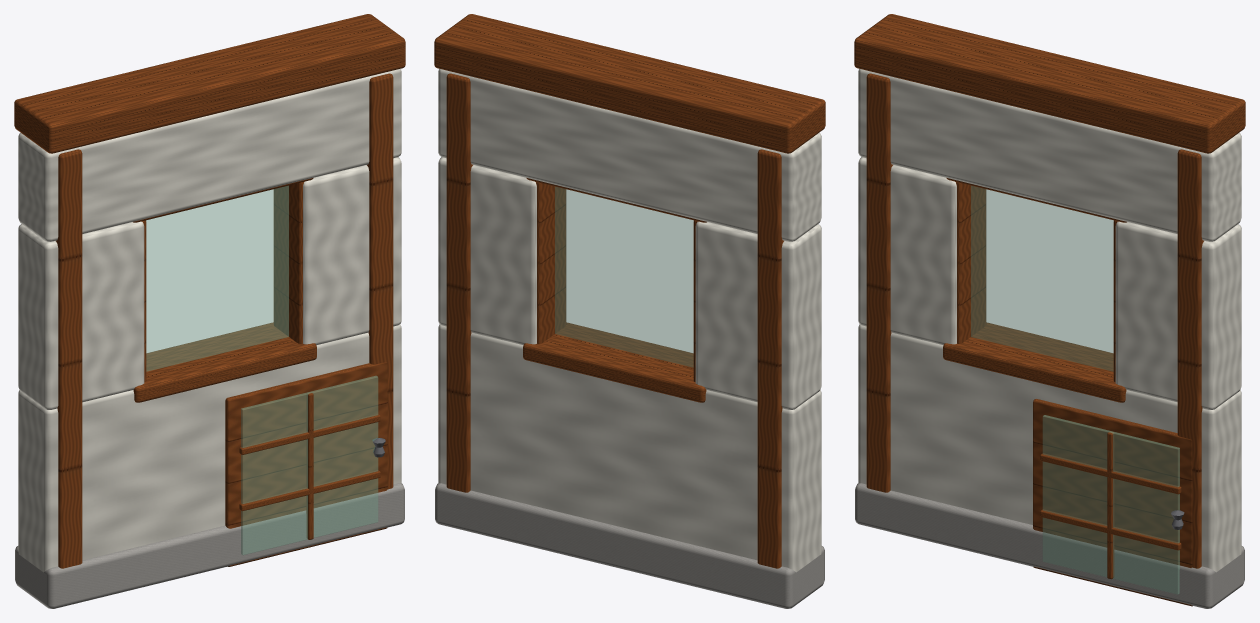
The model's file is witch-cottage-and-apothecary-cob-wall-window-section-d55b2973__32431.glb.
The picture shows the model from 3 angles, left to right: view 1: azimuth 30°, elevation 25°; view 2: azimuth 150°, elevation 25°; view 3: azimuth 330°, elevation 25°; orthographic projection.
Visible parts, largest first — view 1: cob-wall-window-section, casement/oak, casement/glass; view 2: cob-wall-window-section; view 3: cob-wall-window-section, casement/oak, casement/glass.
Part boxes in pixels (left/top/right/bottom): cob-wall-window-section: left=14, top=14, right=405, bottom=608; casement/oak: left=225, top=362, right=387, bottom=566; casement/glass: left=241, top=376, right=378, bottom=555; cob-wall-window-section: left=434, top=14, right=825, bottom=608; cob-wall-window-section: left=854, top=14, right=1245, bottom=608; casement/oak: left=1033, top=399, right=1192, bottom=606; casement/glass: left=1042, top=415, right=1179, bottom=594.
Size of the model in its own units: 2 by 2.6 by 0.4141.
5 materials, 3 textured.
